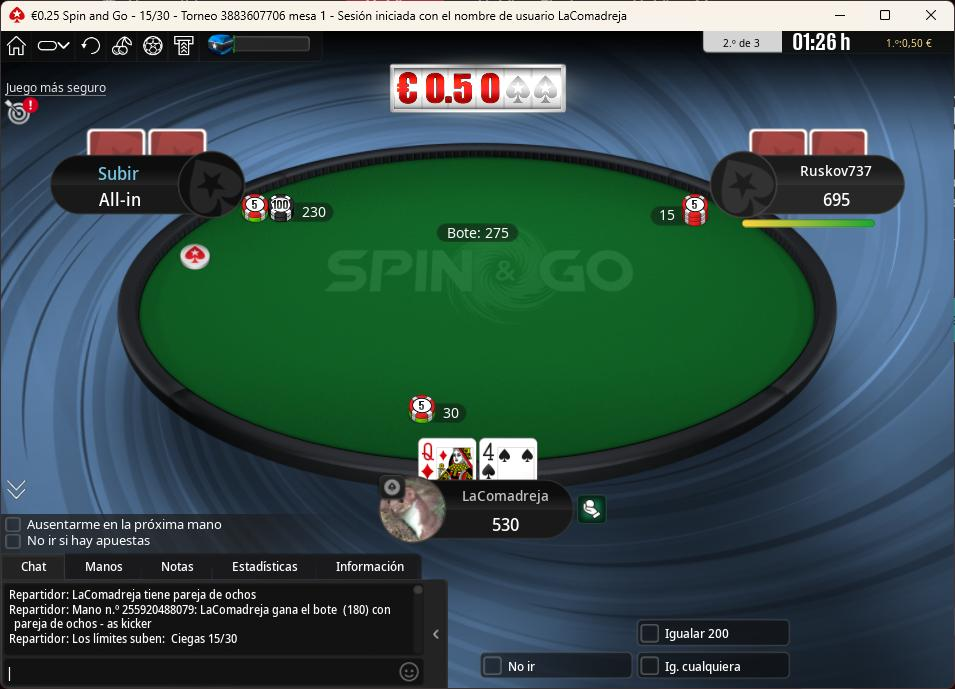Dealer: (181, 240, 214, 270)
HiddenCards: (748, 127, 870, 158), (88, 126, 206, 156)
Player: (714, 148, 906, 214), (51, 153, 243, 218)
PlayerBet: (242, 193, 332, 227), (647, 187, 714, 231)
PlayerChips: (91, 191, 147, 209), (483, 518, 531, 537), (817, 192, 861, 210)
Pot: (434, 221, 519, 240)
PrincipalBet: (406, 395, 469, 425)
PrincipalCards: (418, 438, 541, 482)
PrincipalCards1: (414, 436, 479, 483)
PrincipalCards2: (479, 436, 542, 482)
PrincipalPlayer: (378, 473, 574, 542)
